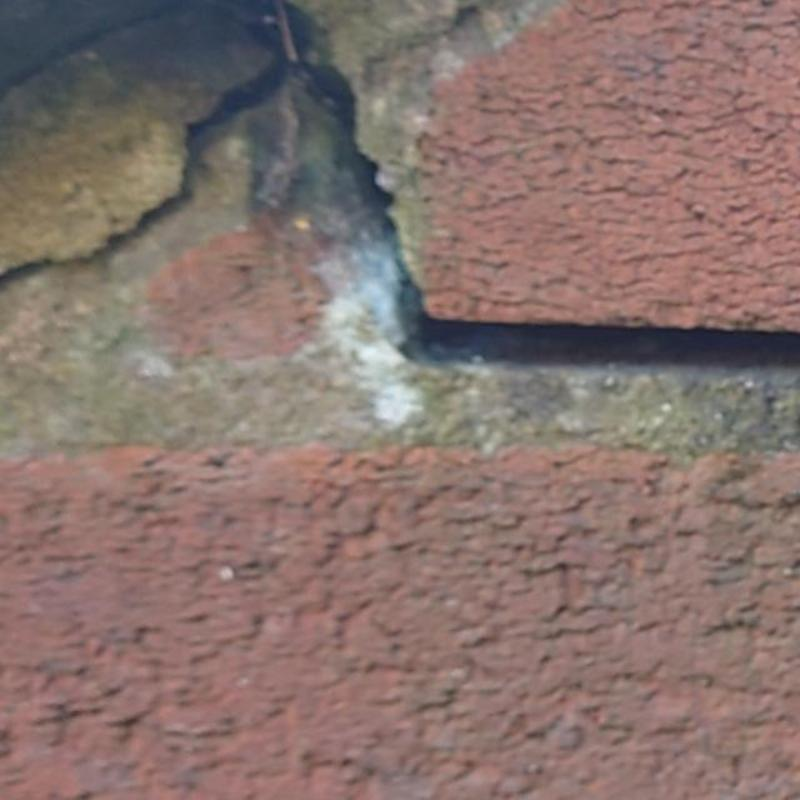pothole: (188, 0, 799, 368), (0, 0, 248, 96), (75, 175, 188, 262), (0, 261, 53, 287)
